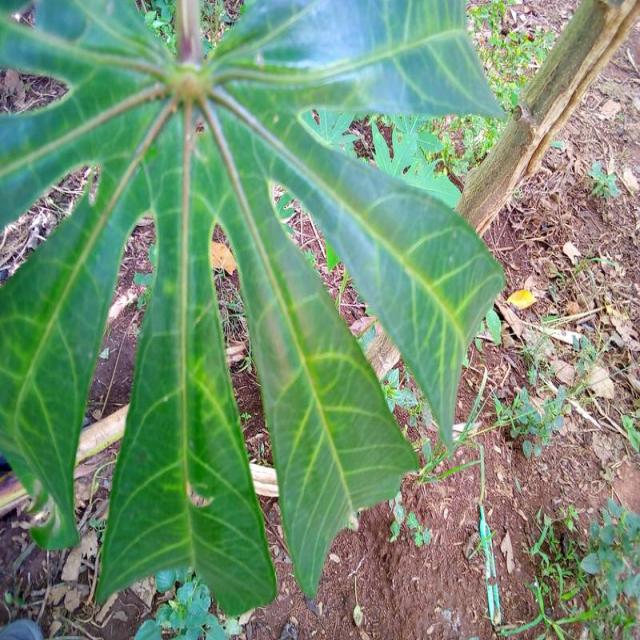cassava leaf: (0, 0, 508, 619)
